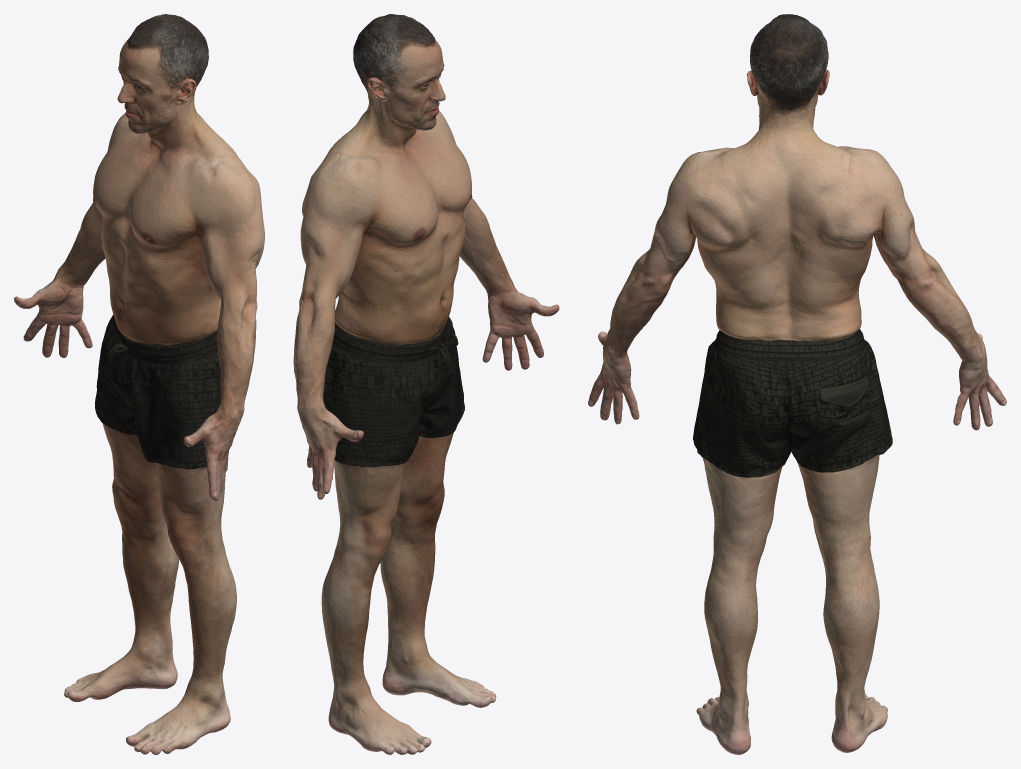
Rendered from UW3AKDQ78E99GV22N62NHXXUU.obj.
The picture shows the model from 3 angles, left to right: view 1: azimuth 30°, elevation 25°; view 2: azimuth 150°, elevation 25°; view 3: azimuth 270°, elevation 25°; orthographic projection. The views are drawn at different scales.
Parts seen in each view (by area): view 1: Object_TexMap_0; view 2: Object_TexMap_0; view 3: Object_TexMap_0.
Part boxes in pixels (x1,y1,x2,y2): Object_TexMap_0: (14, 14, 264, 754); Object_TexMap_0: (293, 14, 559, 754); Object_TexMap_0: (588, 14, 1006, 754).
Size of the model in its own units: 0.4969 by 2.5 by 1.32.
Materials: 1 (1 with a texture image).
